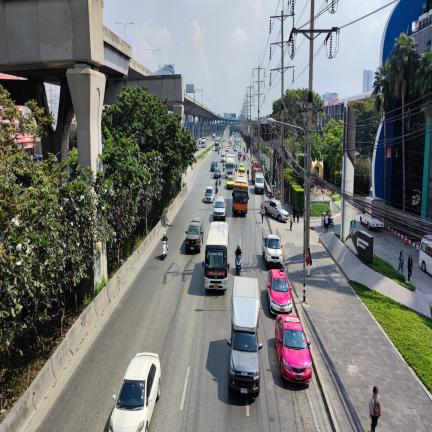bus: (232, 173, 249, 213)
car: (109, 353, 161, 432), (204, 186, 214, 203), (32, 154, 43, 163), (227, 175, 234, 189), (213, 167, 221, 178), (210, 161, 217, 172), (239, 163, 245, 173), (238, 150, 242, 157)
human: (369, 386, 381, 432), (407, 255, 413, 281), (306, 247, 311, 277), (398, 250, 404, 274), (162, 232, 168, 252), (260, 204, 265, 224), (235, 244, 242, 256), (296, 207, 300, 223), (290, 212, 293, 230), (321, 215, 324, 232)
motorbike: (161, 239, 168, 260), (235, 255, 241, 275), (215, 183, 218, 193), (235, 166, 238, 172), (219, 177, 221, 185), (223, 164, 225, 172), (247, 173, 249, 180), (218, 149, 219, 155)
pickup: (262, 228, 283, 269), (261, 199, 289, 222)
taxi: (275, 315, 312, 383), (267, 269, 292, 315)
truck: (227, 276, 262, 395), (360, 196, 384, 229), (185, 217, 204, 252), (213, 196, 226, 222), (251, 165, 262, 183), (226, 153, 235, 175), (201, 137, 206, 148), (215, 141, 219, 151)
van: (202, 221, 229, 290), (254, 173, 264, 194)
